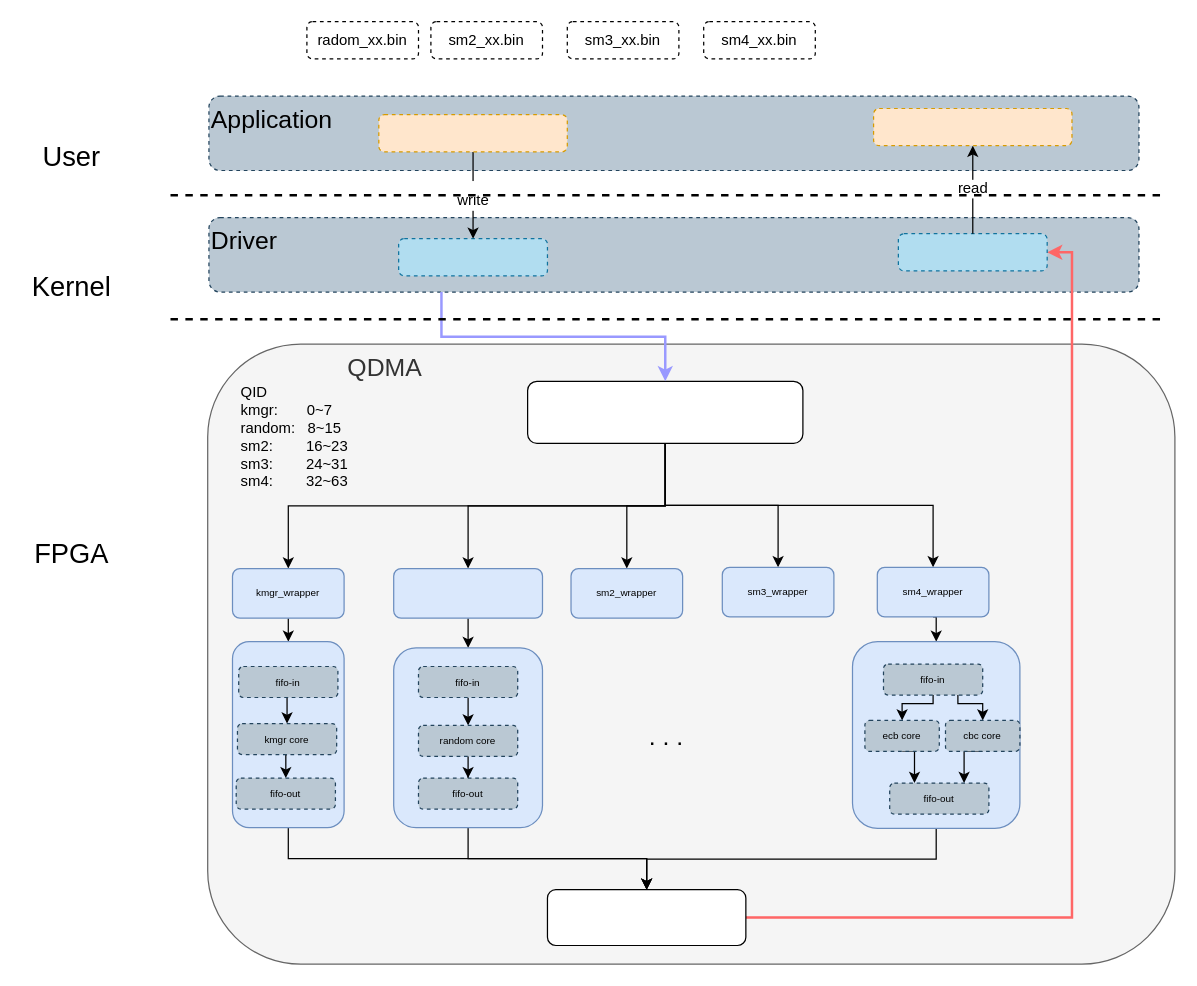
Image size: 1197x986. Some labels were removed from this diagram. Here are the shapes that lost their labels. From the top down, the centre of each, then its label:
At point 472,132: "dma-to-device".
At point 972,126: "dma-from-device".
At point 472,256: "qdma_st_h2c".
At point 972,251: "qdma_st_c2h".
At point 664,411: "AXI_STREAM_H2C route by m_axis_h2c_tuser_qid".
At point 467,592: "random_wrapper".
At point 646,917: "AXI_STREAM_C2H".
